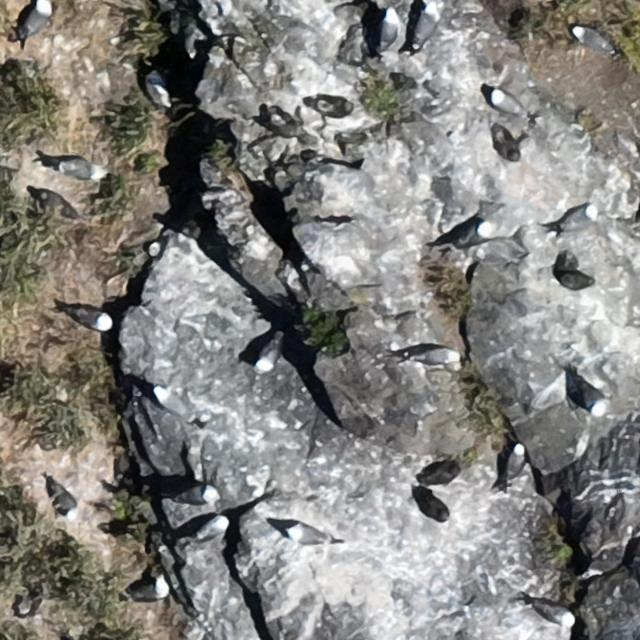umineko: (568, 371, 606, 418), (155, 385, 195, 424), (254, 334, 285, 372), (21, 2, 48, 38), (70, 307, 111, 330), (574, 28, 612, 52), (535, 603, 573, 625), (559, 208, 596, 230), (52, 487, 78, 518), (61, 160, 103, 179), (129, 580, 168, 600), (175, 485, 216, 504), (415, 8, 435, 45), (287, 524, 325, 543), (422, 494, 449, 520), (492, 90, 521, 114), (196, 516, 226, 539), (417, 347, 457, 363), (506, 443, 525, 476), (380, 11, 397, 46), (149, 77, 168, 108), (459, 224, 487, 244), (560, 274, 592, 290)
